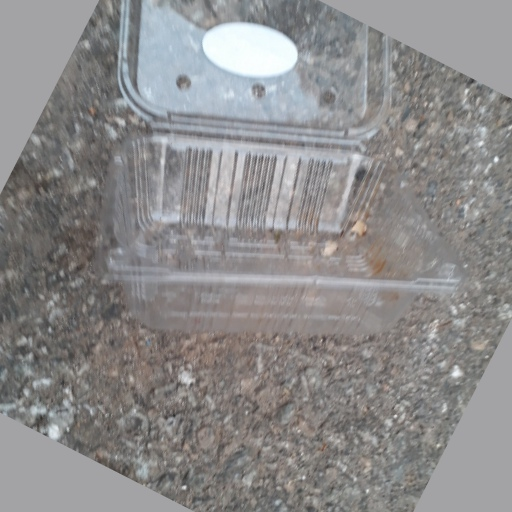Plastic_4: (105, 2, 457, 332)
